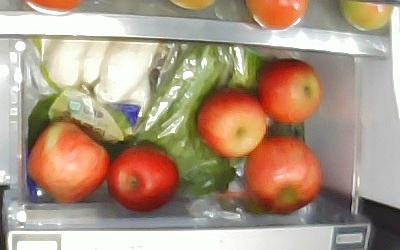apple: (27, 121, 110, 205), (245, 137, 322, 215), (197, 87, 267, 158), (108, 147, 179, 212), (257, 58, 322, 124)
